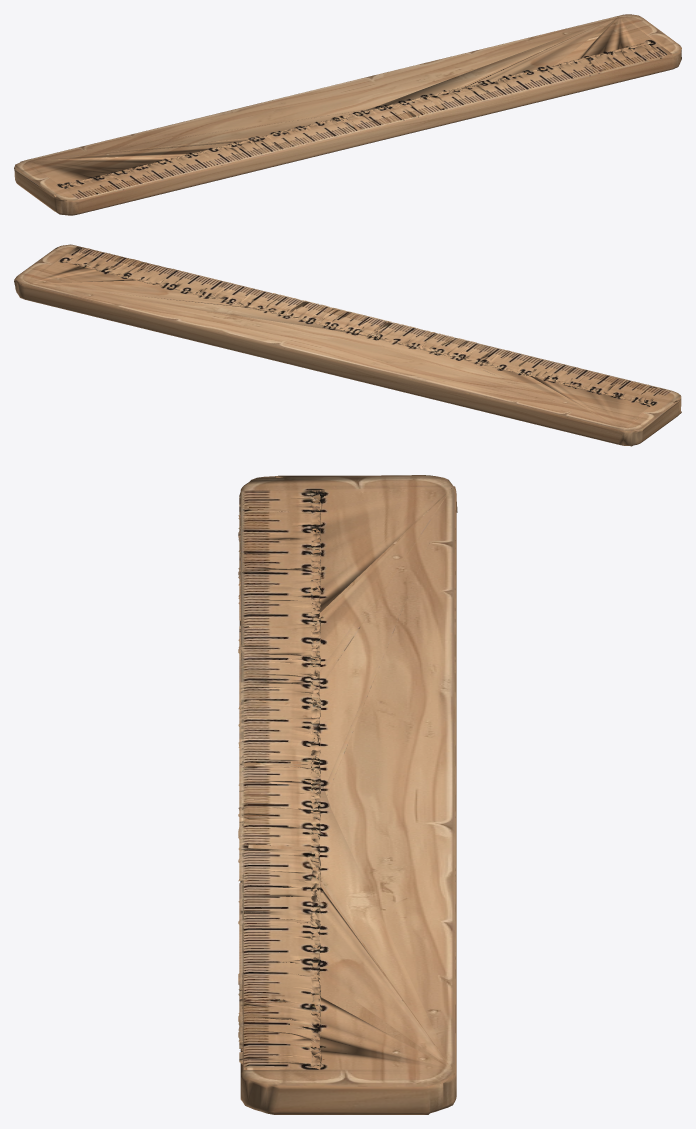
The model's file is ruler.glb.
The picture shows the model from 3 angles, top to bottom: view 1: azimuth 30°, elevation 25°; view 2: azimuth 150°, elevation 25°; view 3: azimuth 270°, elevation 25°; orthographic projection. The views are drawn at different scales.
Size of the model in its own units: 0.9526 by 0.024 by 0.1441.
1 material, 1 textured.
